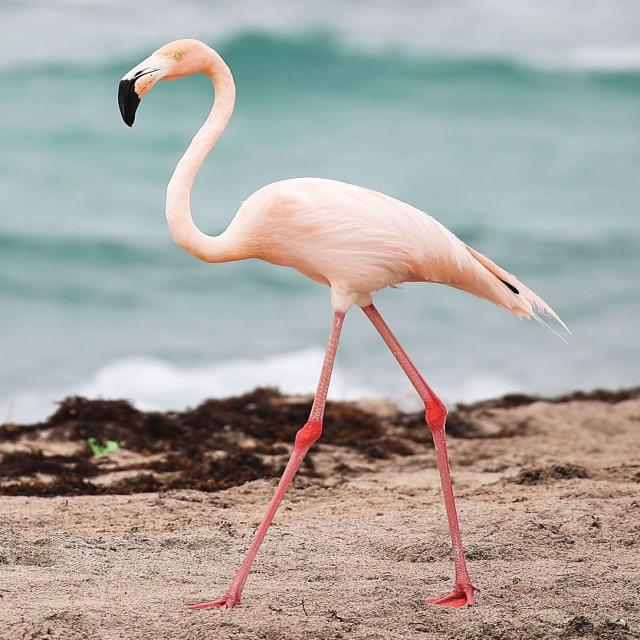Flamingo: (104, 31, 546, 614)
